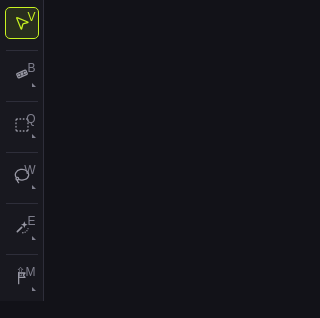
Test case: ToolRail — flyout (Photoshop convention: hold + right-click, ARIA, dismiss) › dismisses on Escape
The image size is (320, 318).
Right-click the button with test id "tool-rail-group-mask-free" at point(22, 176), box [6,161,38,191]
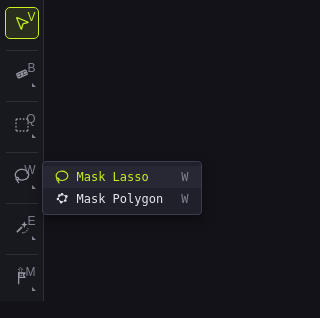
Expected: the menu with test id "tool-rail-flyout" is shown, [42,161,202,215]
Press Escape
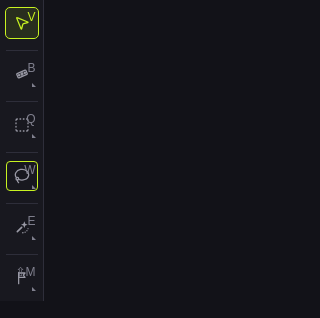
Expected: the menu with test id "tool-rail-flyout" is gone
